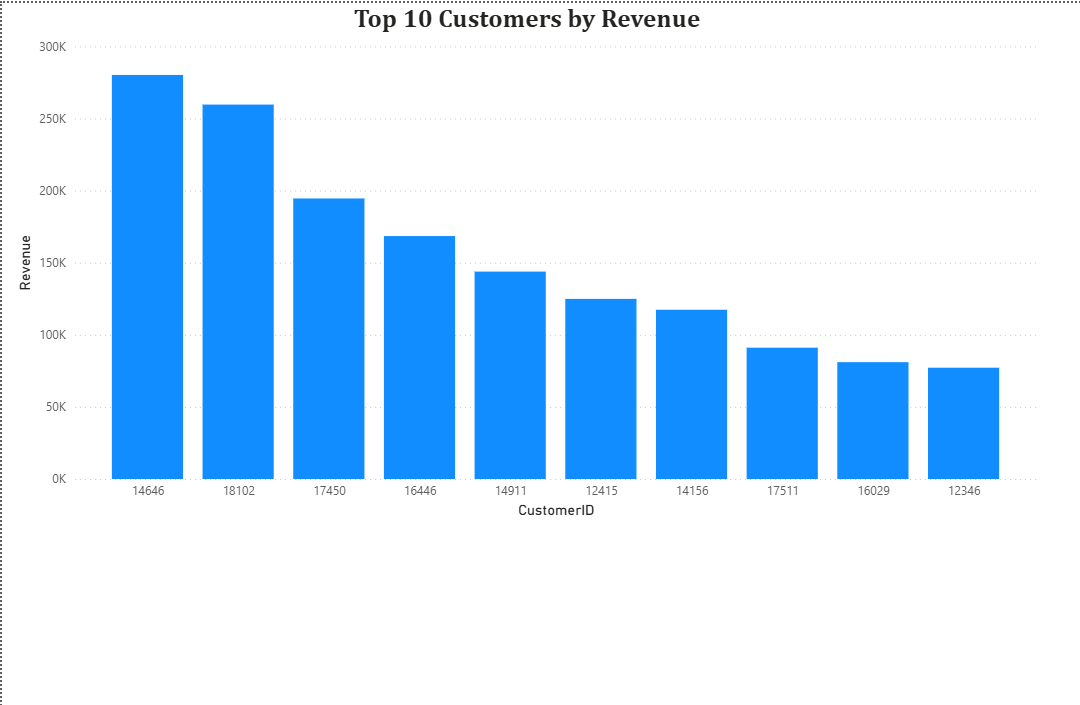

The page's visual inventory and layout, read from the dashboard file:
{"tool":"powerbi","page":{"name":"Question 3","canvas":[1280,720],"ordinal":2},"visuals":[{"type":"clusteredColumnChart","title":"Top 10 Customers by Revenue","fields":{"Y":["Online Retail.Revenue"],"Category":["Online Retail.CustomerID"]},"box":[10,0,1030,520],"z":0}]}

Visuals, with their boxes on the page's 1280x720 design canvas (x1, y1, x2, y2). These are canvas units, not pixel positions in the 1080x705 screenshot, which may show the page scaled, cropped or inside an application window:
"Top 10 Customers by Revenue" clusteredColumnChart: 10:0:1040:520
